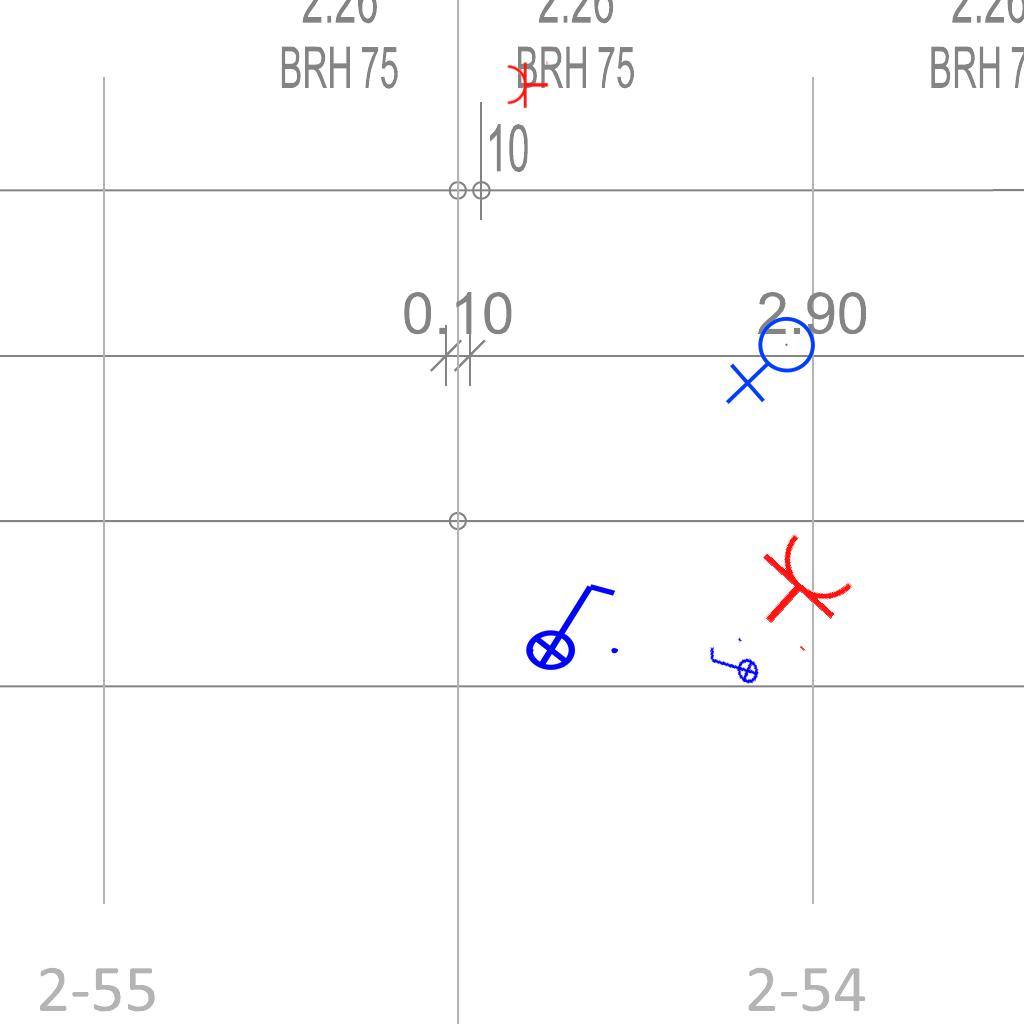Ausschalter_beleuchtet: (512, 576, 624, 672), (702, 632, 764, 700)
Elektroanschluss_allgemein_230V_Geraeteanschlussdose_230V: (725, 315, 824, 409)
Schukosteckdose_einfach: (731, 525, 864, 657), (506, 59, 549, 109)
